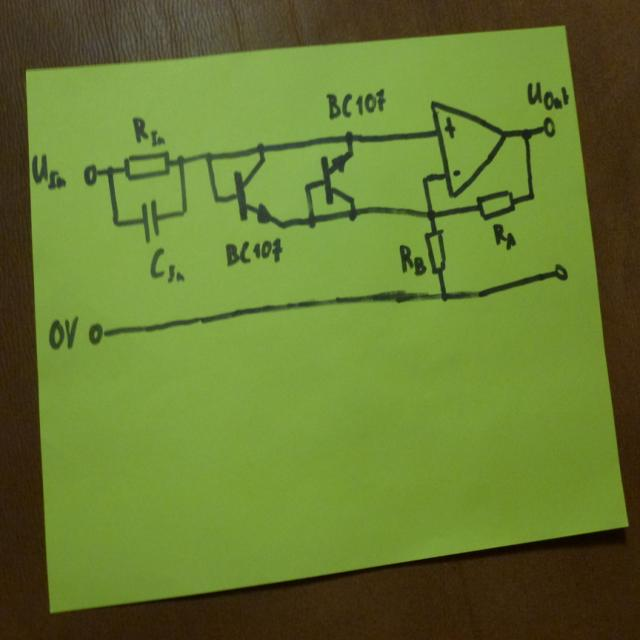capacitor: (139, 197, 162, 244)
junction: (254, 141, 266, 155), (520, 126, 532, 140), (344, 128, 354, 144), (104, 164, 115, 178), (425, 208, 436, 222), (348, 206, 357, 222), (175, 153, 185, 167), (110, 214, 120, 228), (306, 213, 315, 228), (204, 149, 213, 163), (439, 290, 448, 304), (211, 192, 220, 204), (303, 182, 312, 194), (526, 190, 535, 202), (420, 174, 430, 184), (180, 206, 188, 216)
resistor: (122, 149, 170, 181), (475, 189, 515, 221), (423, 227, 447, 276)
terminal: (87, 320, 105, 346), (82, 162, 98, 186), (542, 116, 556, 138), (553, 262, 568, 282)
text: (324, 87, 386, 119), (224, 236, 282, 267), (525, 79, 569, 111), (30, 152, 66, 190), (149, 246, 184, 283), (46, 314, 78, 351), (131, 116, 165, 147), (398, 242, 426, 276), (492, 221, 516, 251)
transistor: (232, 157, 284, 230), (319, 147, 356, 205)
